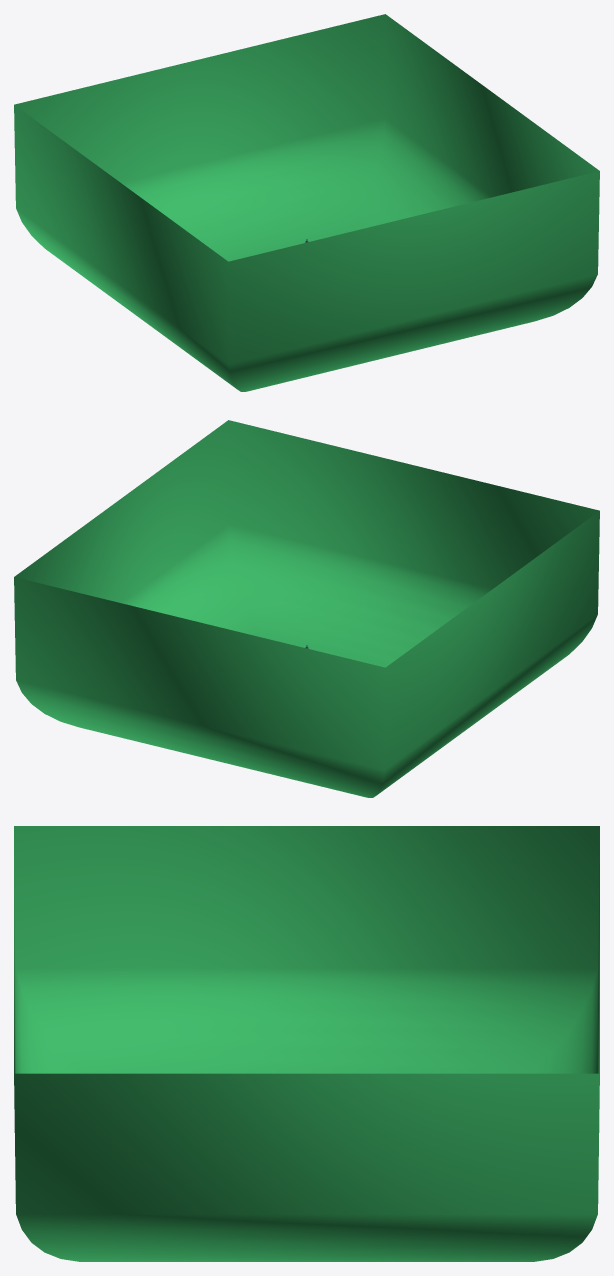
File: diorama.glb
3 views of the same model, one above another, from view 1: azimuth 30°, elevation 25°; view 2: azimuth 150°, elevation 25°; view 3: azimuth 270°, elevation 25° (orthographic). The views are drawn at different scales.
Parts seen in each view (by area): view 1: diorama; view 2: diorama; view 3: diorama.
Boxes of the visible parts, x1=… form: diorama: x1=14, y1=14, x2=599, y2=391; diorama: x1=14, y1=420, x2=599, y2=797; diorama: x1=14, y1=826, x2=599, y2=1261.
Size of the model in its own units: 69.3 by 30.18 by 69.3.
